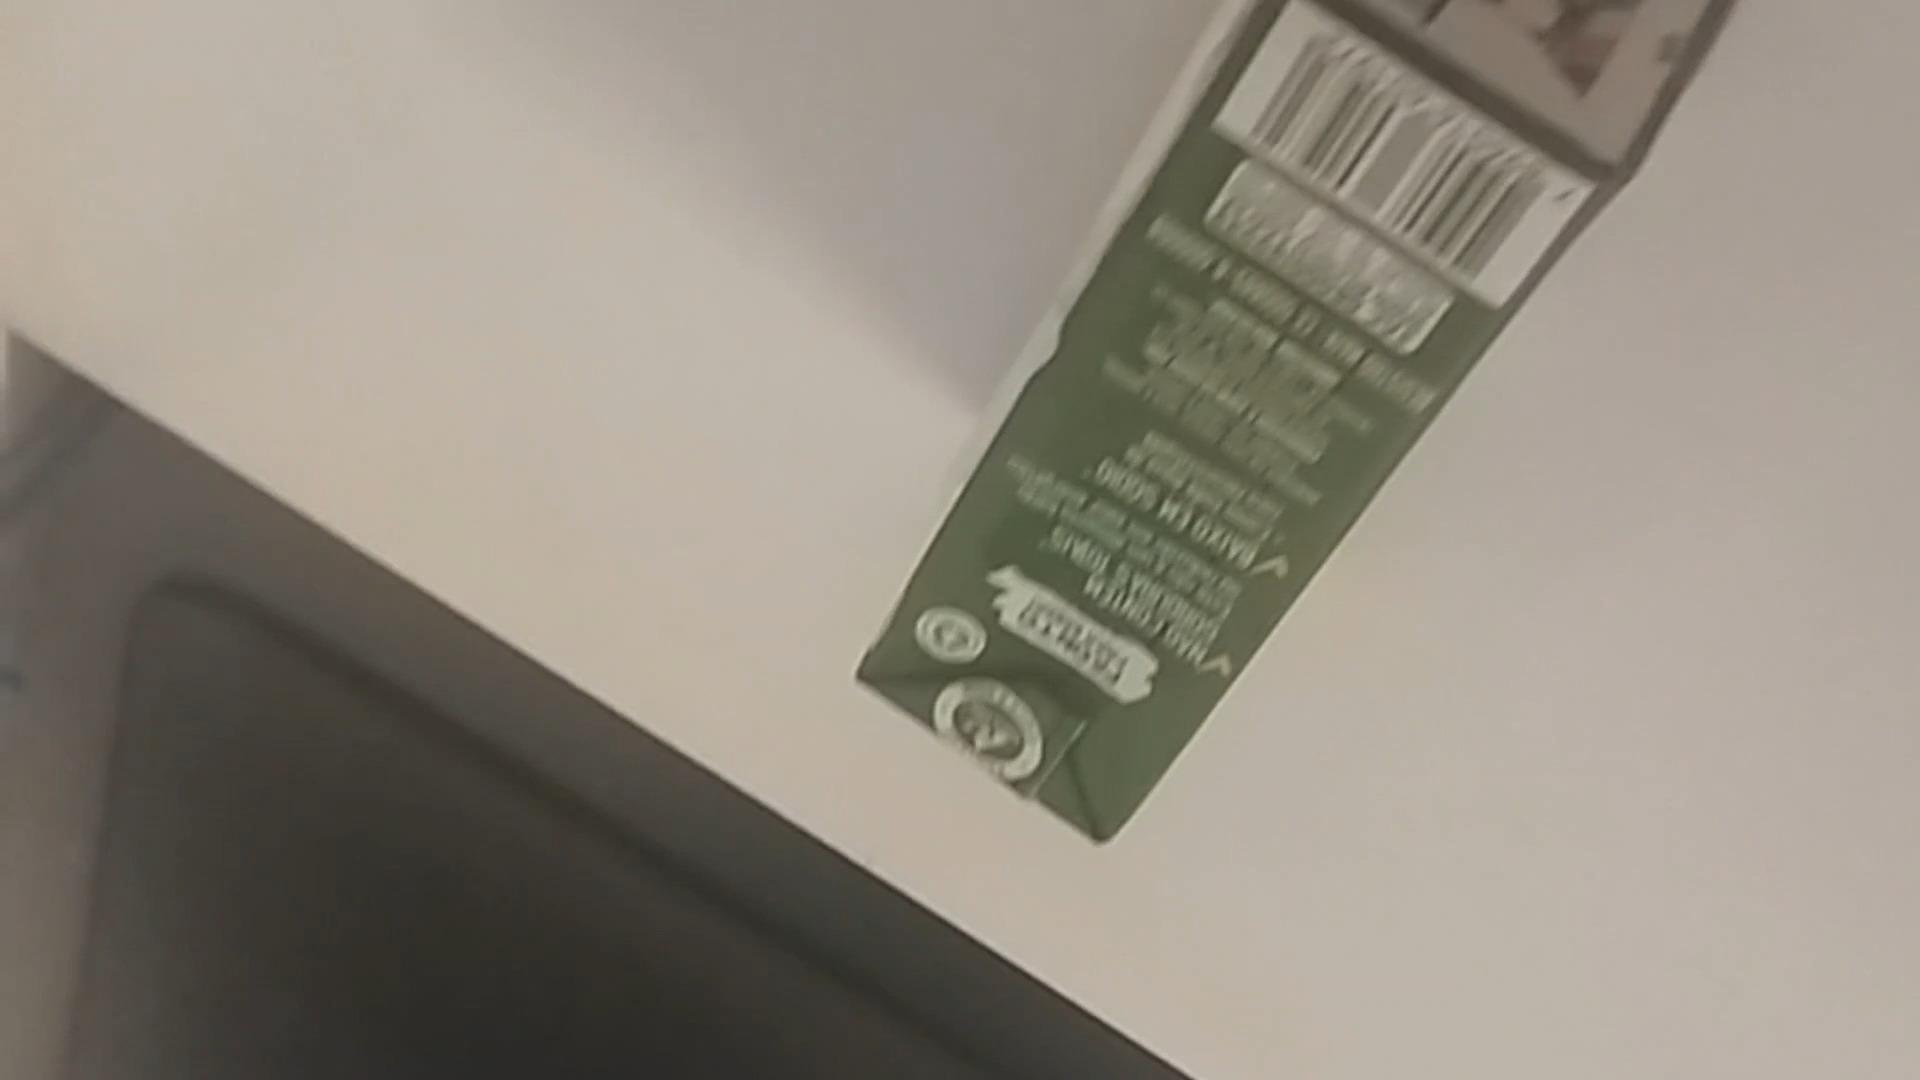coco: (848, 0, 1735, 865)
